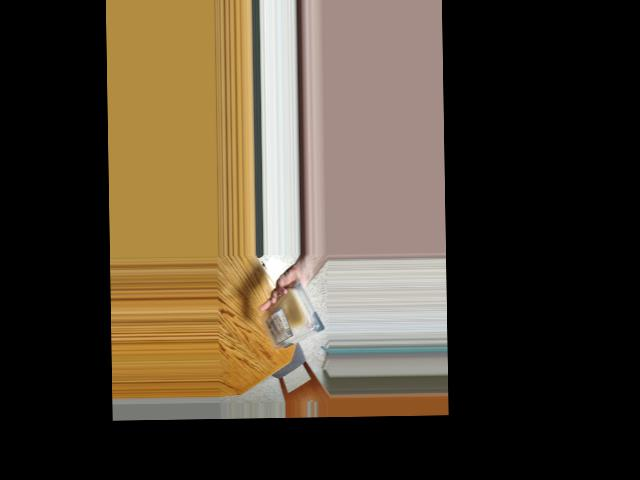cheese: (262, 284, 317, 353)
